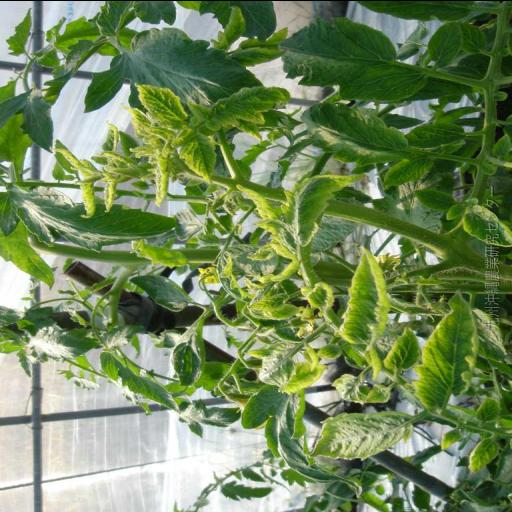Yellow Leaf Curl Virus: (49, 105, 175, 219), (414, 288, 480, 410), (300, 407, 422, 463), (338, 239, 390, 353), (278, 167, 360, 239), (199, 82, 289, 130), (458, 196, 512, 258), (130, 80, 194, 126), (176, 130, 226, 178), (276, 356, 330, 394), (306, 278, 334, 318)
